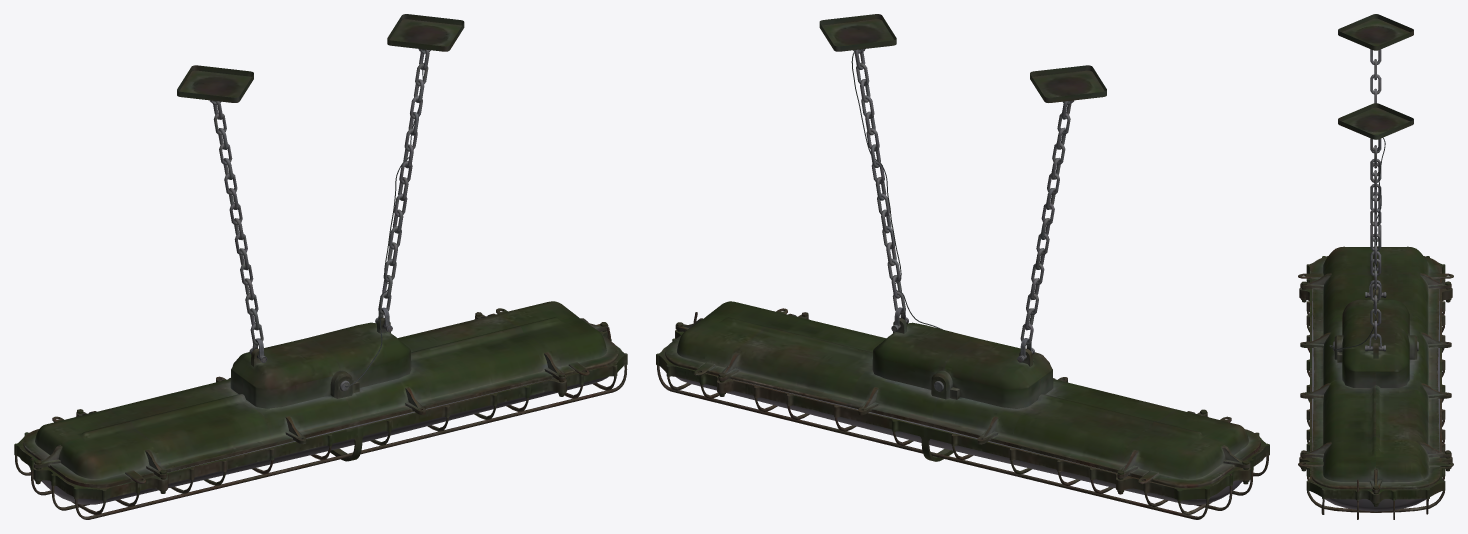
The model's file is ph-caged_hanging_light.glb.
3 views of the same model, side by side, from view 1: azimuth 30°, elevation 25°; view 2: azimuth 150°, elevation 25°; view 3: azimuth 270°, elevation 25° (orthographic). The views are drawn at different scales.
Parts seen in each view (by area): view 1: caged_hanging_light; view 2: caged_hanging_light; view 3: caged_hanging_light.
Part boxes in pixels (left/top/right/bottom): caged_hanging_light: left=14, top=14, right=627, bottom=519; caged_hanging_light: left=656, top=14, right=1269, bottom=519; caged_hanging_light: left=1298, top=14, right=1453, bottom=519.
Size of the model in its own units: 1 by 0.6456 by 0.271.
Materials: 1 (1 with a texture image).
